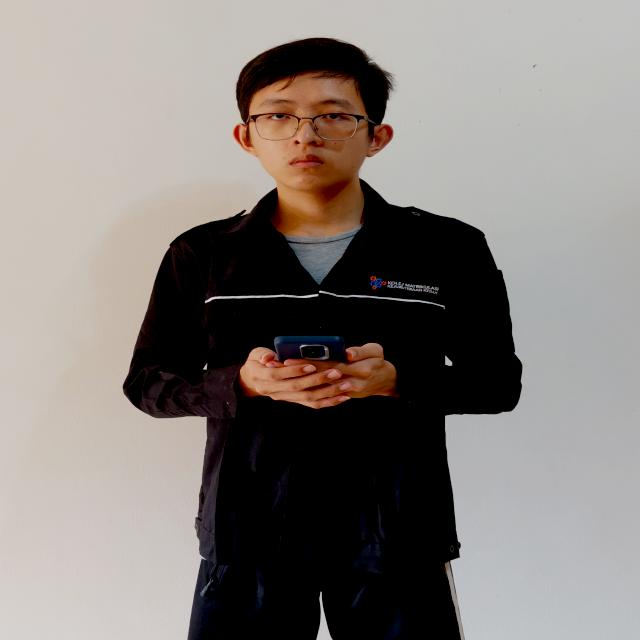person_with_labcoat: (124, 38, 521, 640)
